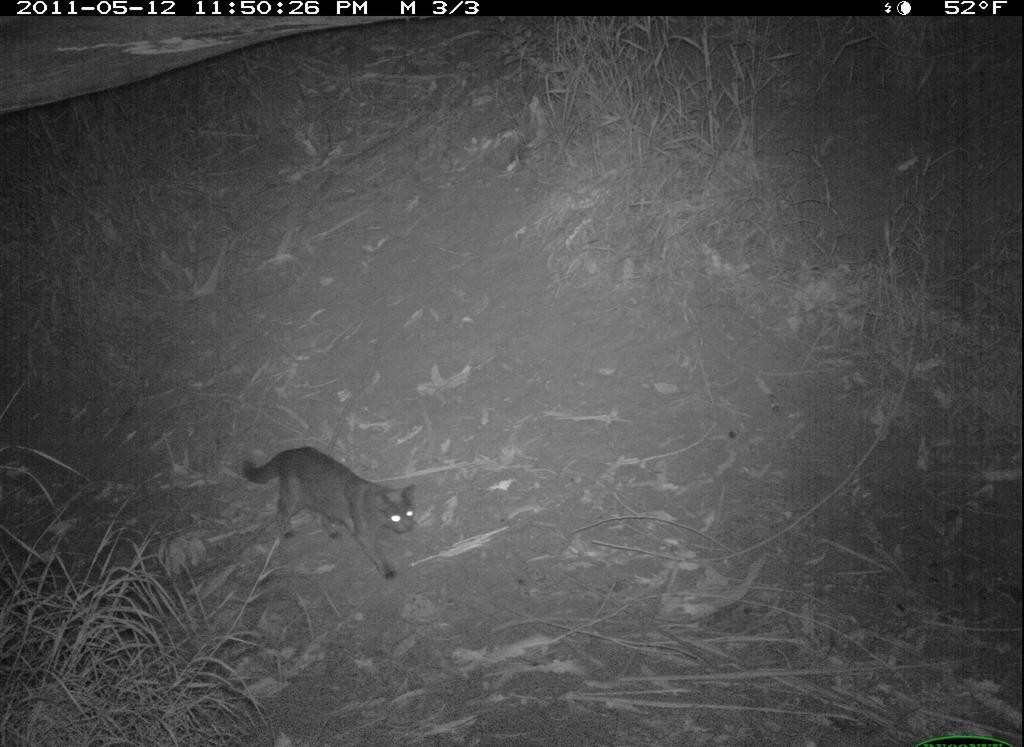cat: (244, 445, 422, 587)
